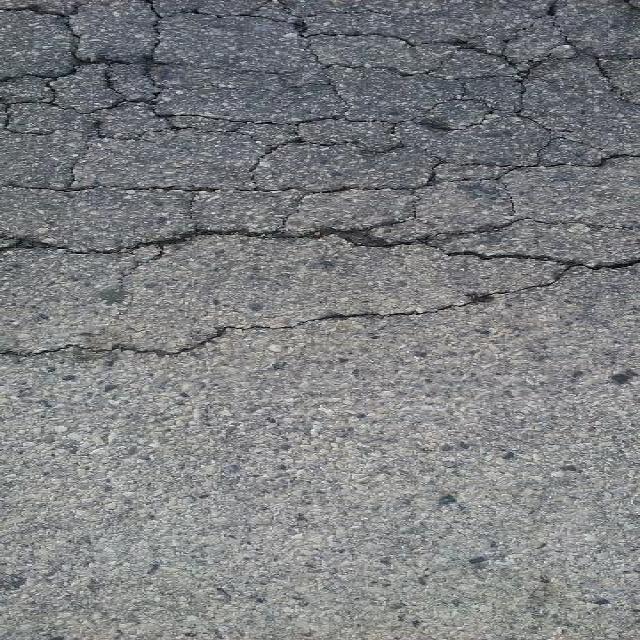PIEL DE COCODRILO: (0, 0, 639, 365)
